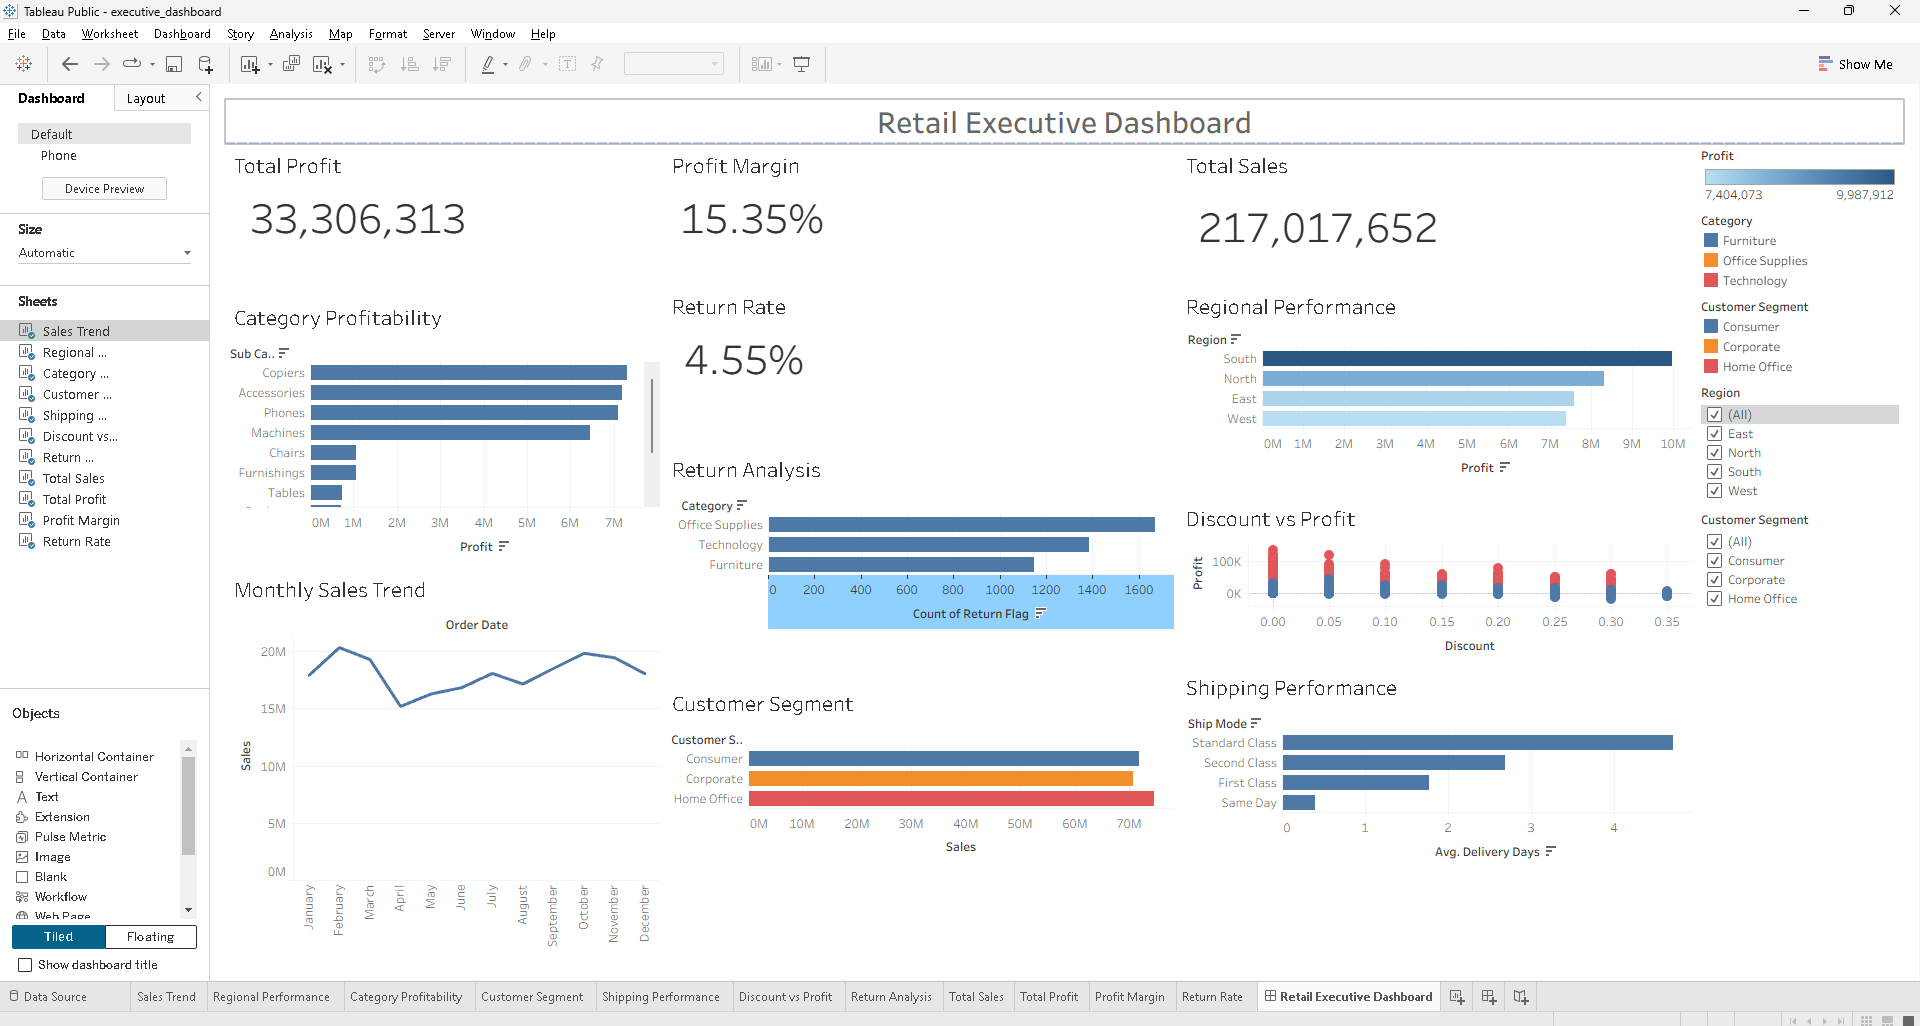

Layout of this report page (visuals, bound fields, positions):
{"tool":"tableau","page":{"name":"Retail Executive Dashboard","canvas":[1000,1000],"units":"permille","ordinal":0},"visuals":[{"type":"text","box":[9.4,17.9,981.3,48.2]},{"type":"worksheet","title":"Total Profit","mark":"Automatic","box":[9.4,66.1,256.5,169.7]},{"type":"worksheet","title":"Profit Margin","mark":"Automatic","box":[265.8,66.1,300.6,156.9]},{"type":"worksheet","title":"Total Sales","mark":"Automatic","box":[566.4,66.1,303.7,157.2]},{"type":"legend","title":"Regional Performance","param":"[federated.0ro5hkp0bis02r17amwgg1hcqx3m].[sum:profit:qk]","box":[870.1,66.1,120.5,72.5]},{"type":"legend","title":"Discount vs Profit","param":"[federated.0ro5hkp0bis02r17amwgg1hcqx3m].[none:category:nk]","box":[870.1,138.6,120.5,96]},{"type":"worksheet","title":"Return Rate","mark":"Automatic","box":[265.8,223,300.6,182.1]},{"type":"worksheet","title":"Regional Performance","mark":"Bar","rows":["region"],"cols":["profit"],"box":[566.4,223.2,303.7,236.7]},{"type":"legend","title":"Customer Segment","param":"[federated.0ro5hkp0bis02r17amwgg1hcqx3m].[none:customer_segment:nk]","box":[870.1,234.6,120.5,96]},{"type":"worksheet","title":"Category Profitability","mark":"Automatic","rows":["sub_category"],"cols":["profit"],"box":[9.4,235.7,256.5,302.9]},{"type":"filter","title":"Regional Performance","param":"[federated.0ro5hkp0bis02r17amwgg1hcqx3m].[none:region:nk]","box":[870.1,330.6,120.5,141.7]},{"type":"worksheet","title":"Return Analysis","mark":"Automatic","rows":["category"],"cols":["return_flag"],"box":[265.8,405,300.6,261.1]},{"type":"worksheet","title":"Discount vs Profit","mark":"Circle","rows":["profit"],"cols":["discount"],"box":[566.4,460,303.7,188.9]},{"type":"filter","title":"Customer Segment","param":"[federated.0ro5hkp0bis02r17amwgg1hcqx3m].[none:customer_segment:nk]","box":[870.1,472.3,120.5,120.5]},{"type":"worksheet","title":"Sales Trend","mark":"Line","rows":["sales"],"cols":["order_date"],"box":[9.4,538.7,256.5,443.5]},{"type":"worksheet","title":"Shipping Performance","mark":"Bar","rows":["ship_mode"],"cols":["delivery_days"],"box":[566.4,648.9,303.7,333.2]},{"type":"worksheet","title":"Customer Segment","mark":"Automatic","rows":["customer_segment"],"cols":["sales"],"box":[265.8,666.1,300.6,316]}]}

Visuals, with their boxes on the dashboard's canvas, which has no fixed pixel size, in thousandths of its width and height (x1, y1, x2, y2). These are canvas units, not pixel positions in the 1920x1026 screenshot, which may show the page scaled, cropped or inside an application window:
text: BBox(9, 18, 991, 66)
"Total Profit" worksheet: BBox(9, 66, 266, 236)
"Profit Margin" worksheet: BBox(266, 66, 566, 223)
"Total Sales" worksheet: BBox(566, 66, 870, 223)
"Regional Performance" legend: BBox(870, 66, 991, 139)
"Discount vs Profit" legend: BBox(870, 139, 991, 235)
"Return Rate" worksheet: BBox(266, 223, 566, 405)
"Regional Performance" worksheet (Bar marks): BBox(566, 223, 870, 460)
"Customer Segment" legend: BBox(870, 235, 991, 331)
"Category Profitability" worksheet: BBox(9, 236, 266, 539)
"Regional Performance" filter: BBox(870, 331, 991, 472)
"Return Analysis" worksheet: BBox(266, 405, 566, 666)
"Discount vs Profit" worksheet (Circle marks): BBox(566, 460, 870, 649)
"Customer Segment" filter: BBox(870, 472, 991, 593)
"Sales Trend" worksheet (Line marks): BBox(9, 539, 266, 982)
"Shipping Performance" worksheet (Bar marks): BBox(566, 649, 870, 982)
"Customer Segment" worksheet: BBox(266, 666, 566, 982)
